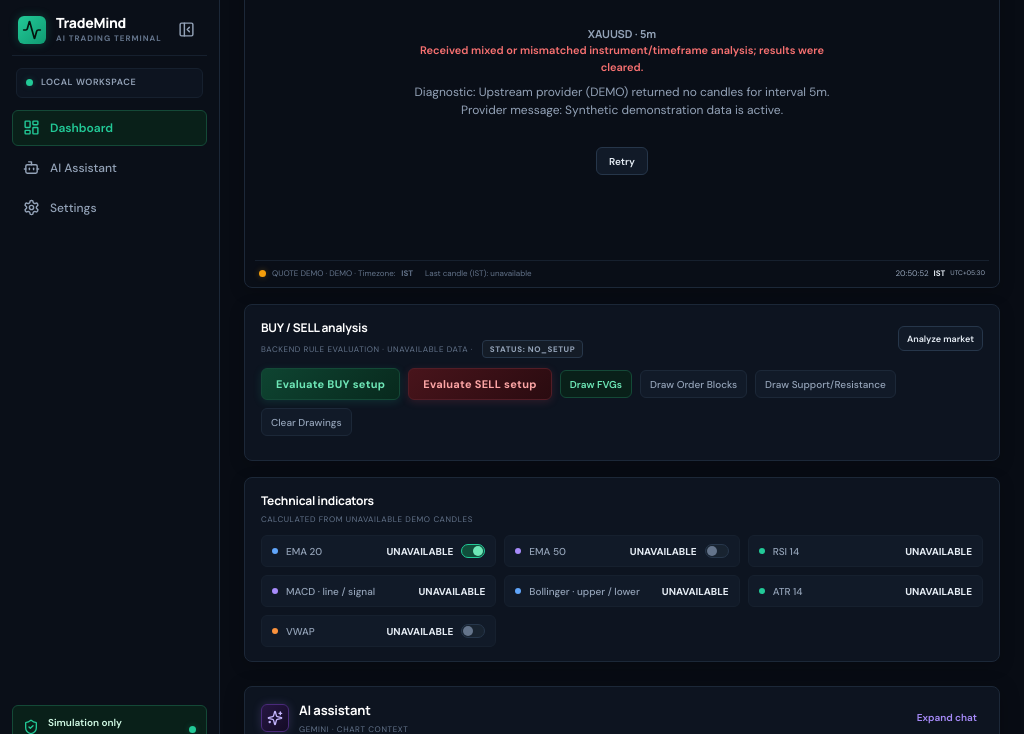
it: Timeframe evaluation buttons and switching › recovers button state after an evaluation failure without leaving buttons stuck
The width and height of the screenshot is (1024, 734).
(page scrolled)
Click the button "Evaluate BUY setup" at (331, 384), box [261, 368, 400, 400]
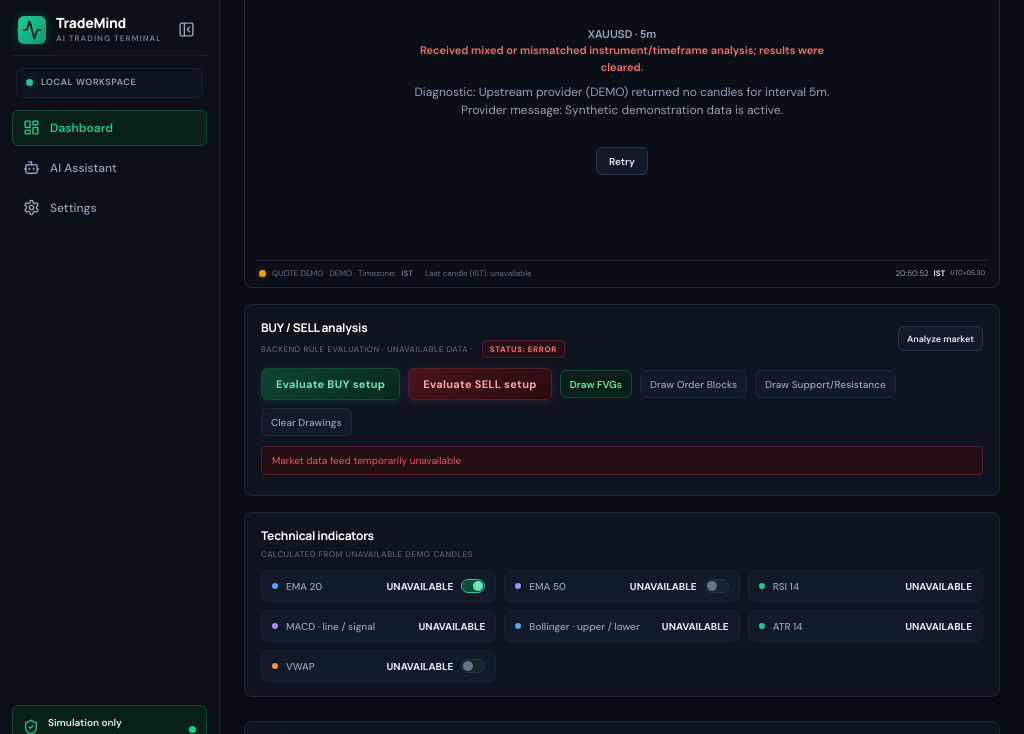
Expected: the button "Evaluate SELL setup" is enabled, [408, 368, 552, 400]
Expected: the text "Market data feed temporarily unavailable" is shown, [261, 446, 983, 475]
